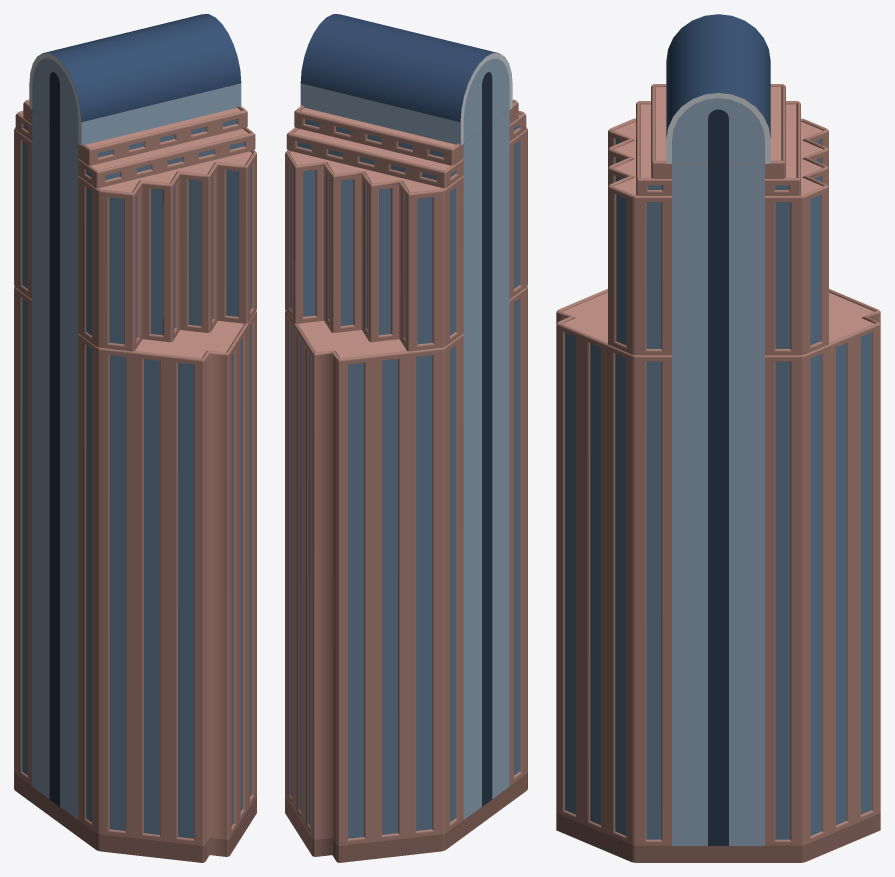
Rendered from one-wells-fargo-center.glb.
3 views of the same model, side by side, from view 1: azimuth 30°, elevation 25°; view 2: azimuth 150°, elevation 25°; view 3: azimuth 270°, elevation 25° (orthographic).
Parts seen in each view (by area): view 1: One Wells Fargo Center; view 2: One Wells Fargo Center; view 3: One Wells Fargo Center.
Part boxes in pixels (x1,y1,x2,y2): One Wells Fargo Center: [14, 14, 256, 862]; One Wells Fargo Center: [285, 14, 527, 862]; One Wells Fargo Center: [556, 14, 880, 862].
Size of the model in its own units: 39.52 by 179 by 68.29.
